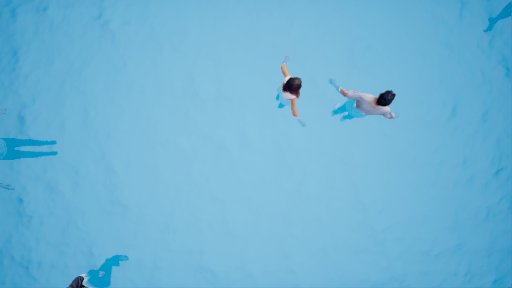person: (325, 76, 405, 123), (270, 51, 309, 131)
